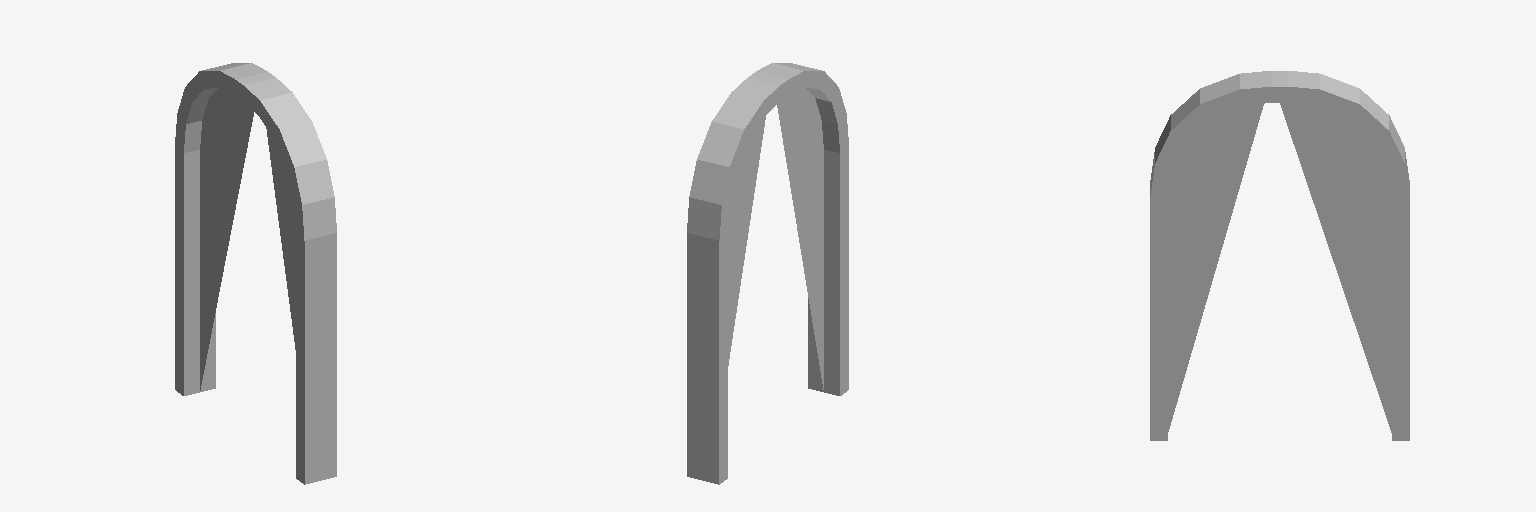
3 renders of one model, left to right at view 1: azimuth 30°, elevation 25°; view 2: azimuth 150°, elevation 25°; view 3: azimuth 270°, elevation 25°, orthographic.
Visible parts, largest first — view 1: 无标题.005_无标题.012; view 2: 无标题.005_无标题.012; view 3: 无标题.005_无标题.012.
Boxes of the visible parts, box(x1,y1,x2,y2) form: 无标题.005_无标题.012: box(175, 63, 336, 484); 无标题.005_无标题.012: box(687, 63, 848, 484); 无标题.005_无标题.012: box(1150, 71, 1409, 440).
Size of the model in its own units: 0.0213 by 0.2208 by 0.1463.